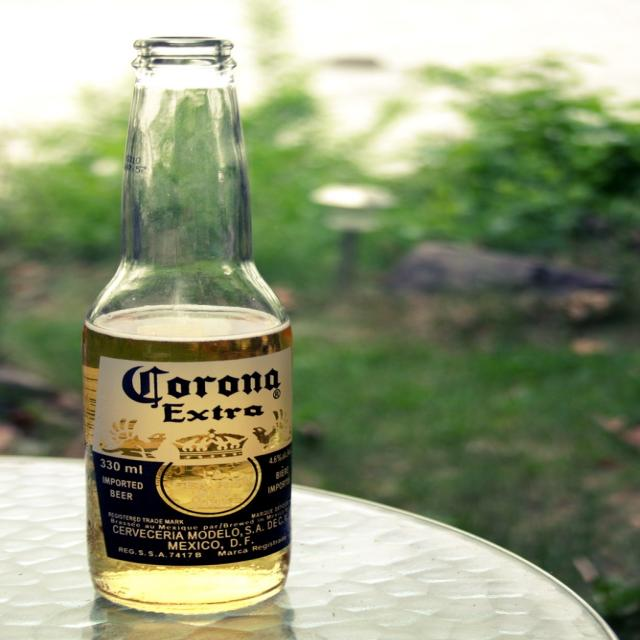corona: (92, 348, 292, 568)
